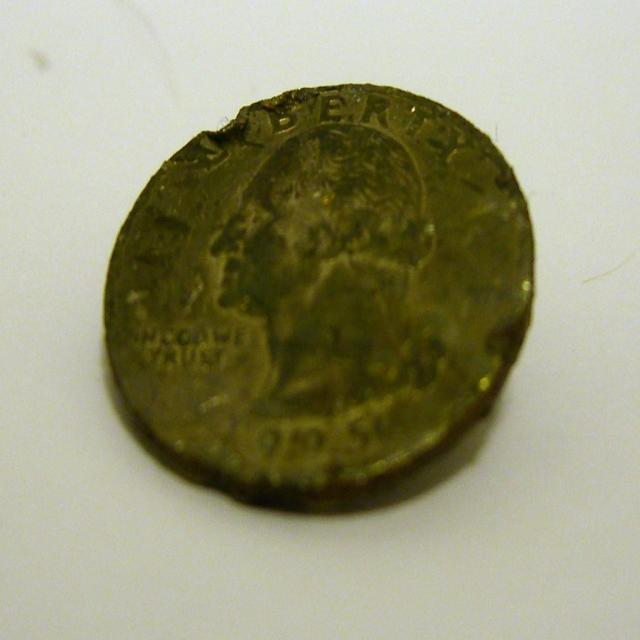Coin: (98, 76, 540, 509)
